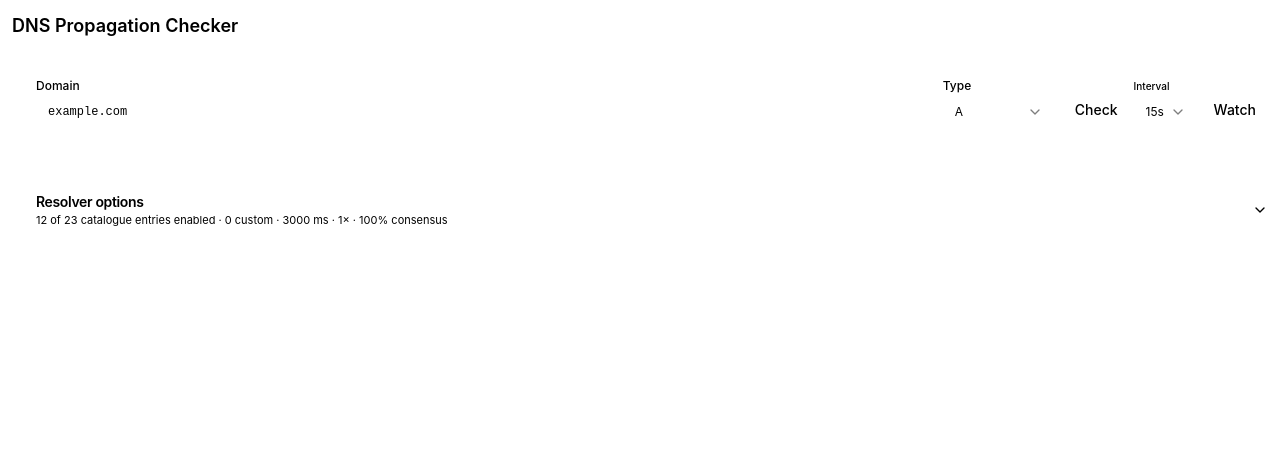
Test: normalizes and renders the populated native propagation response
Click the button "Check". click: (1096, 110)
box: [1063,92,1130,128]
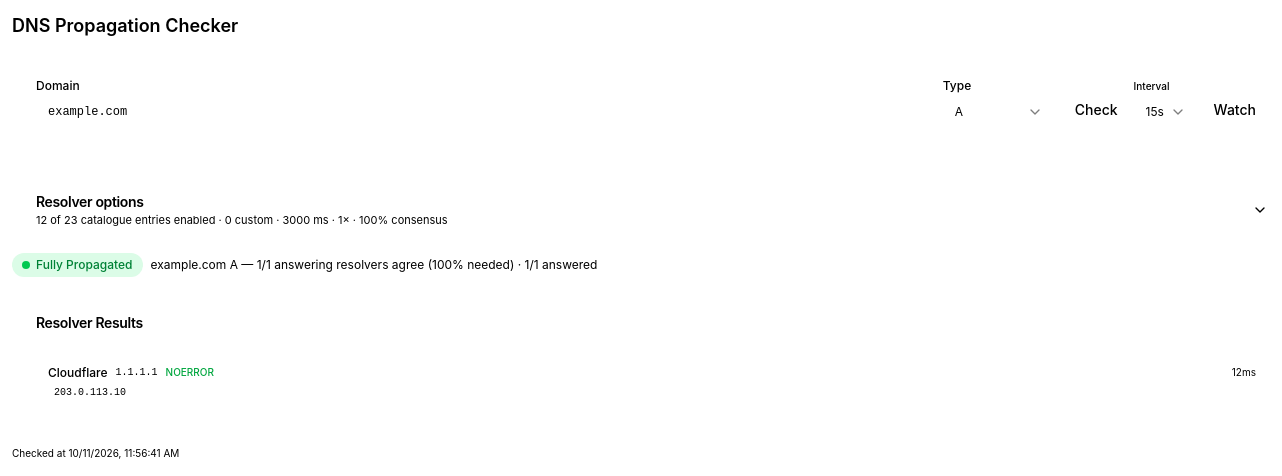
Check: the text "203.0.113.10" is shown, box [54,386,126,398]
Check: the text "Cloudflare" is shown, box [48,364,108,380]
Check: the text with test id "propagation-summary" shows "1/1 answering resolvers agree", box [150,256,597,272]
